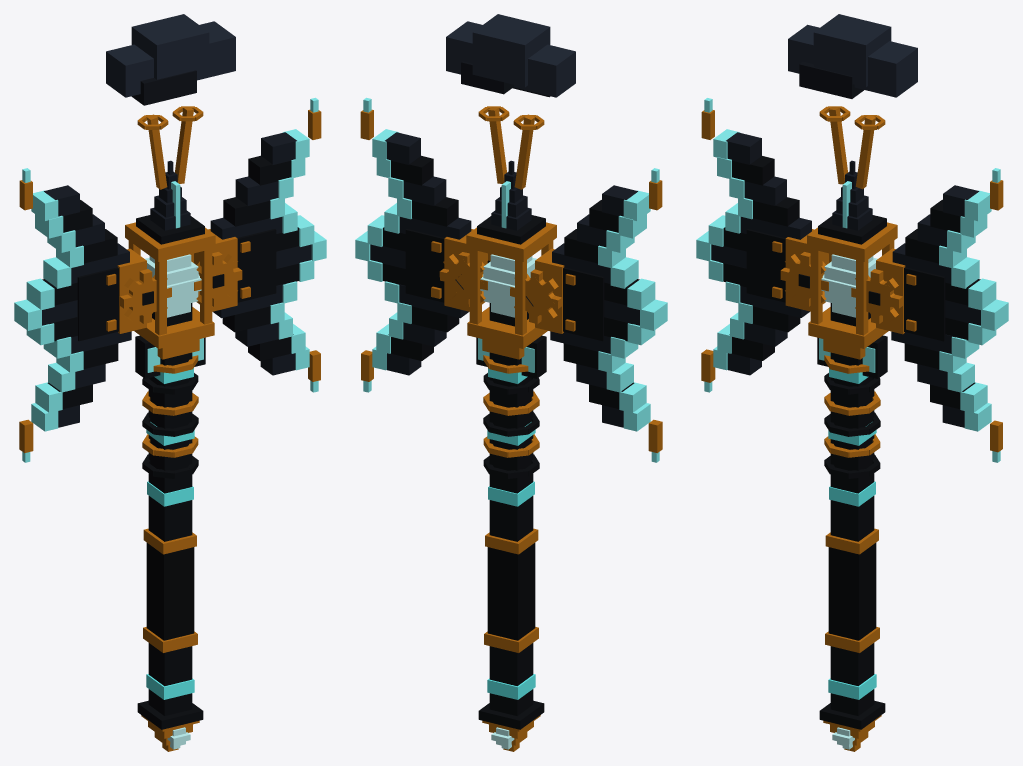
File: stormbreaker.obj
3 views of the same model, side by side, from view 1: azimuth 30°, elevation 25°; view 2: azimuth 150°, elevation 25°; view 3: azimuth 330°, elevation 25° (orthographic).
Parts seen in each view (by area): view 1: haft_1, haft_2, storm_cloud_137, blade_L_hinge_66, blade_R_hinge_107, storm_cloud_136, head_spin_31, head_spin_32, storm_cloud_139, storm_cloud_138, blade_L_hinge_67, head_spin_33 (+42 smaller); view 2: haft_1, haft_2, storm_cloud_137, blade_L_hinge_66, blade_R_hinge_107, storm_cloud_136, head_spin_31, head_spin_32, storm_cloud_138, blade_L_hinge_67, head_spin_33, blade_R_hinge_97 (+42 smaller); view 3: haft_1, haft_2, storm_cloud_137, blade_R_hinge_107, storm_cloud_138, blade_L_hinge_66, head_spin_31, head_spin_32, storm_cloud_139, blade_R_hinge_108, head_spin_33, blade_L_hinge_56 (+42 smaller).
Part boxes in pixels (x1,y1,x2,y2): haft_1: (148,303,192,715); haft_2: (146,543,194,640); storm_cloud_137: (131,14,209,79); blade_L_hinge_66: (77,267,118,341); blade_R_hinge_107: (237,229,276,302); storm_cloud_136: (106,44,153,97); head_spin_31: (125,222,215,261); head_spin_32: (134,307,214,348); storm_cloud_139: (131,70,196,105); storm_cloud_138: (197,21,235,80); blade_L_hinge_67: (117,248,146,333); head_spin_33: (136,215,204,244); haft_1: (489,303,533,715); haft_2: (487,543,535,640); storm_cloud_137: (472,14,550,87); blade_L_hinge_66: (563,267,604,341); blade_R_hinge_107: (405,229,444,302); storm_cloud_136: (514,44,575,97); head_spin_31: (466,222,556,261); head_spin_32: (467,307,547,348); storm_cloud_138: (446,21,482,74); blade_L_hinge_67: (535,248,564,333); head_spin_33: (477,215,545,244); blade_R_hinge_97: (399,217,471,239); haft_1: (830,303,874,715); haft_2: (828,542,876,640); storm_cloud_137: (813,14,891,87); blade_R_hinge_107: (904,267,945,341); storm_cloud_138: (854,41,917,97); blade_L_hinge_66: (746,229,785,302); head_spin_31: (807,222,897,261); head_spin_32: (808,307,888,348); storm_cloud_139: (799,62,863,98); blade_R_hinge_108: (876,248,905,334); head_spin_33: (818,215,886,244); blade_L_hinge_56: (740,217,811,239).
Bounding box in the file's own units: 2.23 × 5.13 × 0.4292.
